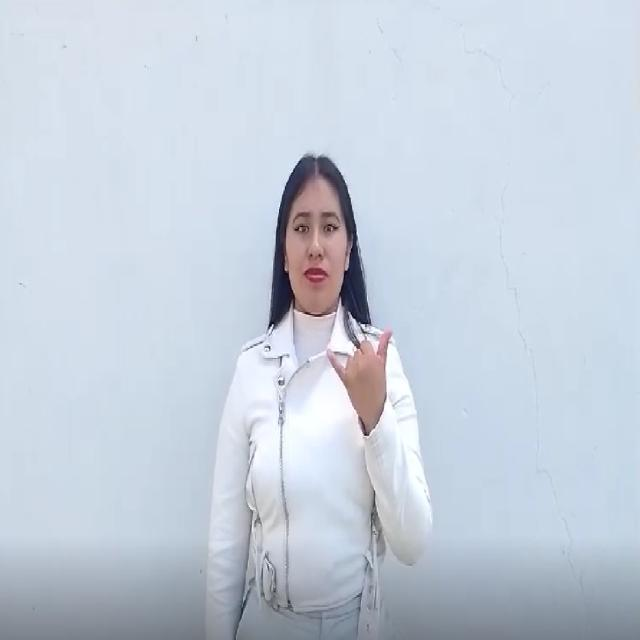Y: (318, 286, 416, 436)
